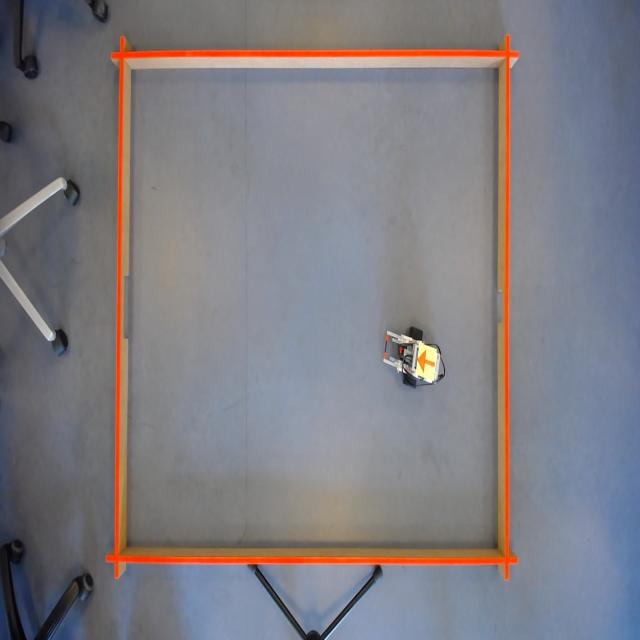robot: (415, 339, 438, 384)
